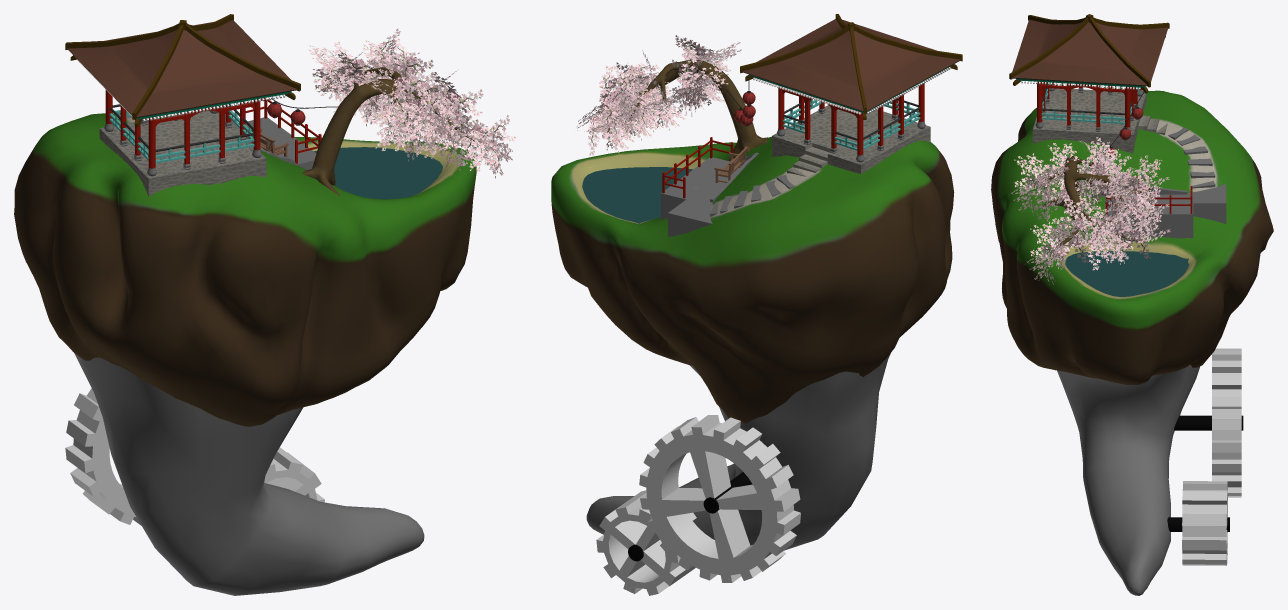
The picture shows the model from 3 angles, left to right: view 1: azimuth 30°, elevation 25°; view 2: azimuth 150°, elevation 25°; view 3: azimuth 270°, elevation 25°; orthographic projection. The views are drawn at different scales.
Parts seen in each view (by area): view 1: Flying_Island1:PM3D_Sphere3D_4, Flying_Island1:PM3D_Cylinder3D_3, pasted__pasted__pPlane7, Dach, PavillionUV2_polySurface1, See, Flying_Island1:pCylinder3, Baum2_Group23687, Flying_Island1:pCylinder2, Base, pasted__pCube2, pasted__pasted__pasted__pCube2; view 2: Flying_Island1:PM3D_Sphere3D_4, Flying_Island1:pCylinder3, Flying_Island1:PM3D_Cylinder3D_3, Dach, pasted__pasted__pPlane7, PavillionUV2_polySurface1, Flying_Island1:pCylinder2, See, Base, Baum2_Group23687, pCube2, pasted__pasted__pCube2; view 3: Flying_Island1:PM3D_Sphere3D_4, Flying_Island1:PM3D_Cylinder3D_3, pasted__pasted__pPlane7, Dach, PavillionUV2_polySurface1, Flying_Island1:pCylinder3, See, Flying_Island1:pCylinder2, Base, Baum2_Group23687, Flying_Island1:pCylinder4, pasted__pCube2 (+2 smaller).
Part boxes in pixels (bbox=[...]): Flying_Island1:PM3D_Sphere3D_4: bbox=[14, 113, 476, 426]; Flying_Island1:PM3D_Cylinder3D_3: bbox=[74, 353, 424, 595]; pasted__pasted__pPlane7: bbox=[308, 28, 515, 178]; Dach: bbox=[67, 20, 297, 119]; PavillionUV2_polySurface1: bbox=[99, 110, 266, 196]; See: bbox=[314, 147, 442, 199]; Flying_Island1:pCylinder3: bbox=[65, 388, 141, 525]; Baum2_Group23687: bbox=[302, 67, 474, 196]; Flying_Island1:pCylinder2: bbox=[264, 447, 324, 502]; Base: bbox=[225, 115, 316, 169]; pasted__pCube2: bbox=[186, 23, 300, 91]; pasted__pasted__pasted__pCube2: bbox=[65, 23, 179, 49]; Flying_Island1:PM3D_Sphere3D_4: bbox=[551, 136, 954, 423]; Flying_Island1:pCylinder3: bbox=[639, 415, 800, 582]; Flying_Island1:PM3D_Cylinder3D_3: bbox=[586, 353, 890, 550]; Dach: bbox=[742, 19, 960, 112]; pasted__pasted__pPlane7: bbox=[577, 35, 741, 155]; PavillionUV2_polySurface1: bbox=[772, 105, 930, 176]; Flying_Island1:pCylinder2: bbox=[596, 490, 696, 595]; See: bbox=[582, 167, 692, 223]; Base: bbox=[660, 157, 740, 236]; Baum2_Group23687: bbox=[607, 59, 768, 161]; pCube2: bbox=[740, 25, 848, 73]; pasted__pasted__pCube2: bbox=[855, 25, 962, 61]; Flying_Island1:PM3D_Sphere3D_4: bbox=[991, 90, 1273, 384]; Flying_Island1:PM3D_Cylinder3D_3: bbox=[1057, 364, 1200, 595]; pasted__pasted__pPlane7: bbox=[1011, 137, 1170, 284]; Dach: bbox=[1012, 19, 1168, 87]; PavillionUV2_polySurface1: bbox=[1032, 88, 1167, 153]; Flying_Island1:pCylinder3: bbox=[1212, 348, 1241, 497]; See: bbox=[1065, 251, 1189, 296]; Flying_Island1:pCylinder2: bbox=[1182, 481, 1227, 565]; Base: bbox=[1104, 184, 1226, 238]; Baum2_Group23687: bbox=[1042, 156, 1130, 247]; Flying_Island1:pCylinder4: bbox=[1174, 415, 1243, 430]; pasted__pCube2: bbox=[1009, 18, 1088, 79].
Bounding box in the file's own units: 26.67 × 36.24 × 19.07.
